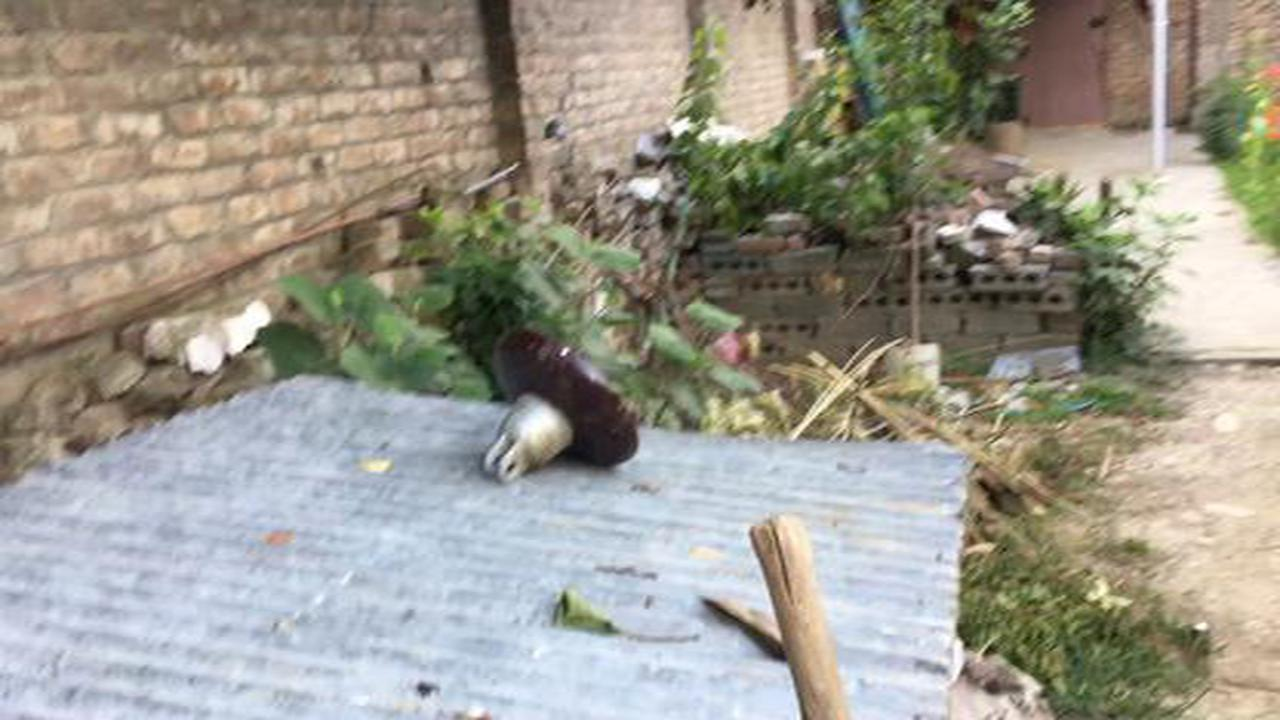insulator_disc: (479, 321, 647, 495)
